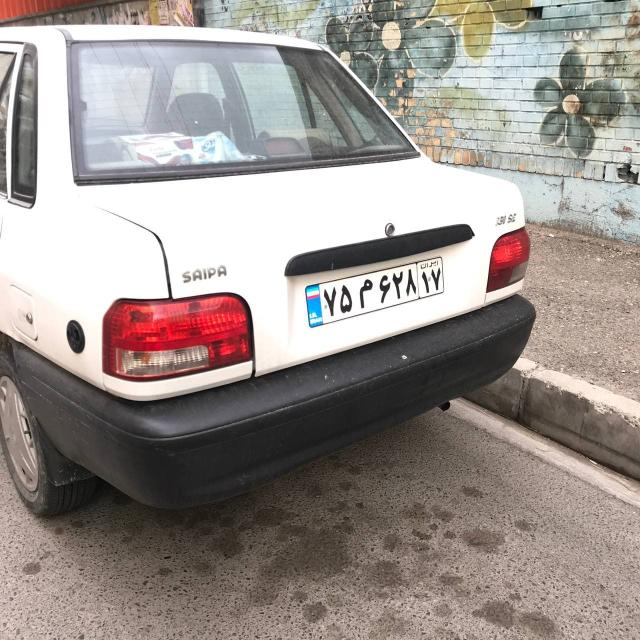Plates: (299, 250, 450, 328)
